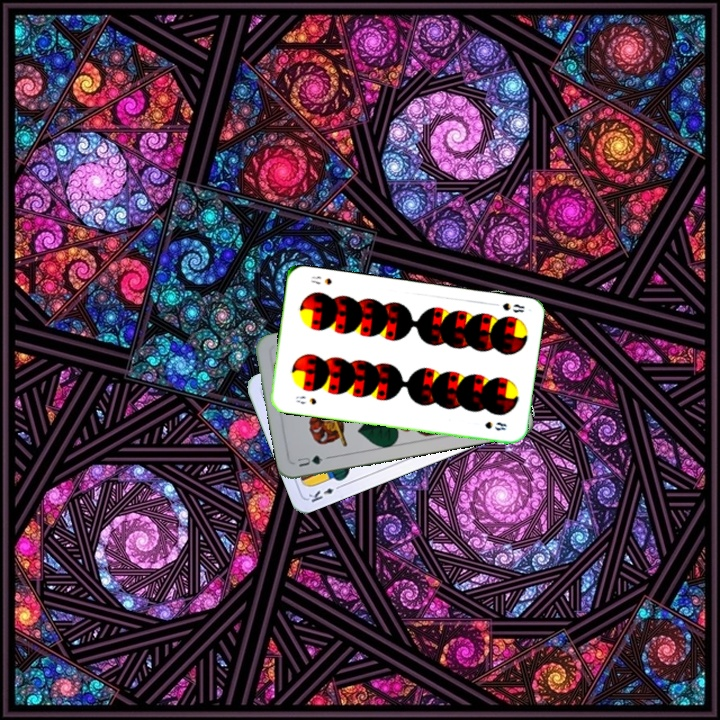EK: (304, 481, 344, 505)
GU: (293, 451, 325, 470)
S8: (488, 299, 527, 315), (292, 392, 319, 407)
